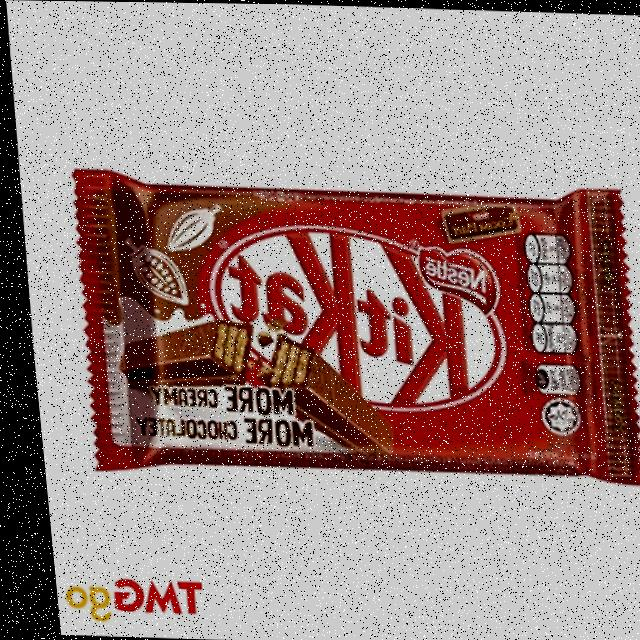kitkat: (64, 172, 640, 486)
